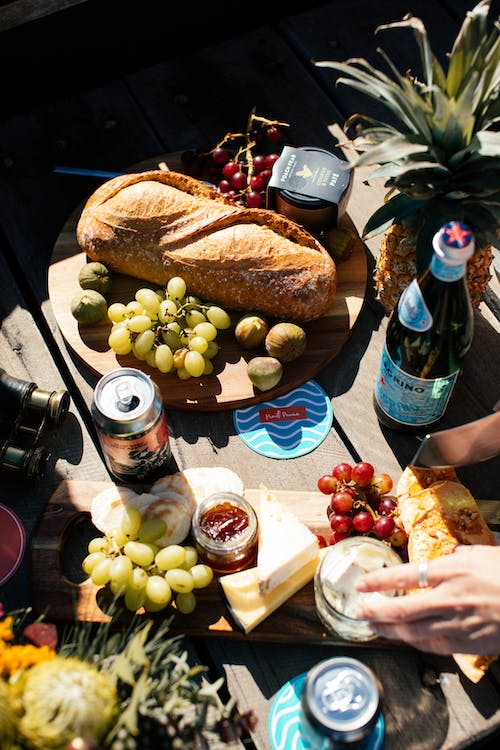alcohol: (371, 218, 477, 436), (90, 368, 174, 485), (295, 654, 386, 750)
knife: (405, 407, 500, 471)
